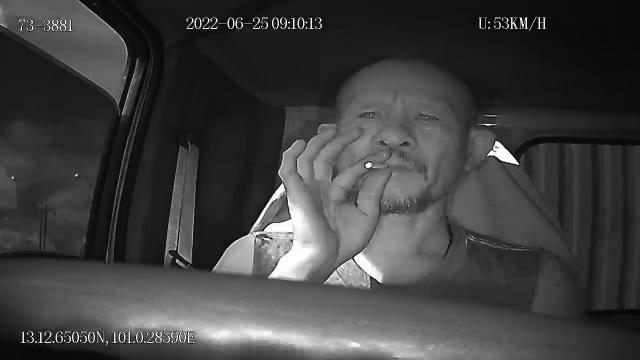SafeDriving: (406, 102, 446, 132), (351, 103, 387, 127)
Smoking: (365, 160, 389, 170)
